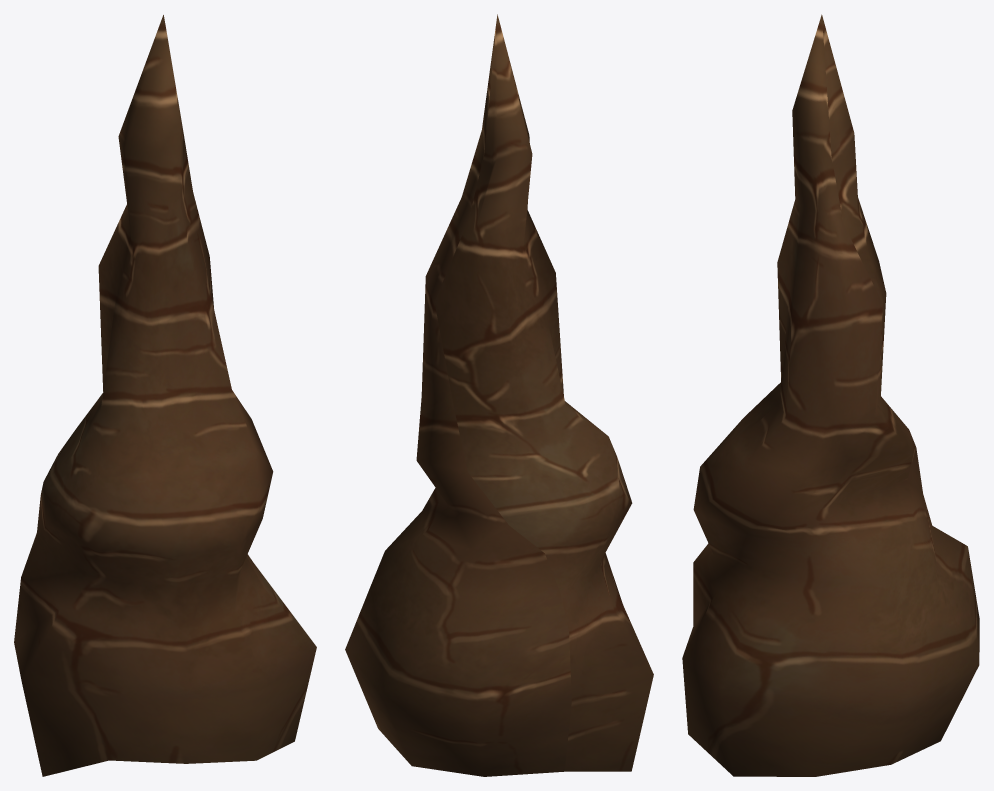
File: CA_OPE_Props_Caverna_Estalactite_002.fbx
The picture shows the model from 3 angles, left to right: view 1: azimuth 30°, elevation 25°; view 2: azimuth 150°, elevation 25°; view 3: azimuth 270°, elevation 25°; orthographic projection.
Parts seen in each view (by area): view 1: CA_OPE_Props_Caverna_Estalactite_002; view 2: CA_OPE_Props_Caverna_Estalactite_002; view 3: CA_OPE_Props_Caverna_Estalactite_002.
Boxes of the visible parts, left/top/right/bottom form: CA_OPE_Props_Caverna_Estalactite_002: left=14, top=15, right=316, bottom=776; CA_OPE_Props_Caverna_Estalactite_002: left=345, top=14, right=653, bottom=776; CA_OPE_Props_Caverna_Estalactite_002: left=682, top=14, right=979, bottom=776.
Bounding box in the file's own units: 4.4 × 11.55 × 4.26.
